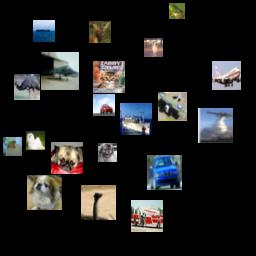airplane: (41, 52, 79, 90), (198, 108, 233, 143), (158, 92, 187, 121), (212, 61, 241, 90)
automobile: (147, 155, 182, 190), (93, 94, 115, 116)
bird: (81, 185, 116, 220), (14, 74, 40, 100)
cat: (93, 61, 125, 93)
deer: (89, 21, 111, 43), (144, 38, 163, 57)
dog: (27, 175, 62, 210), (51, 142, 83, 174), (26, 131, 45, 150), (98, 143, 117, 162)
frog: (3, 137, 22, 156), (169, 3, 185, 19)
ship: (120, 103, 152, 135), (33, 20, 55, 42)
truck: (131, 200, 163, 232)
